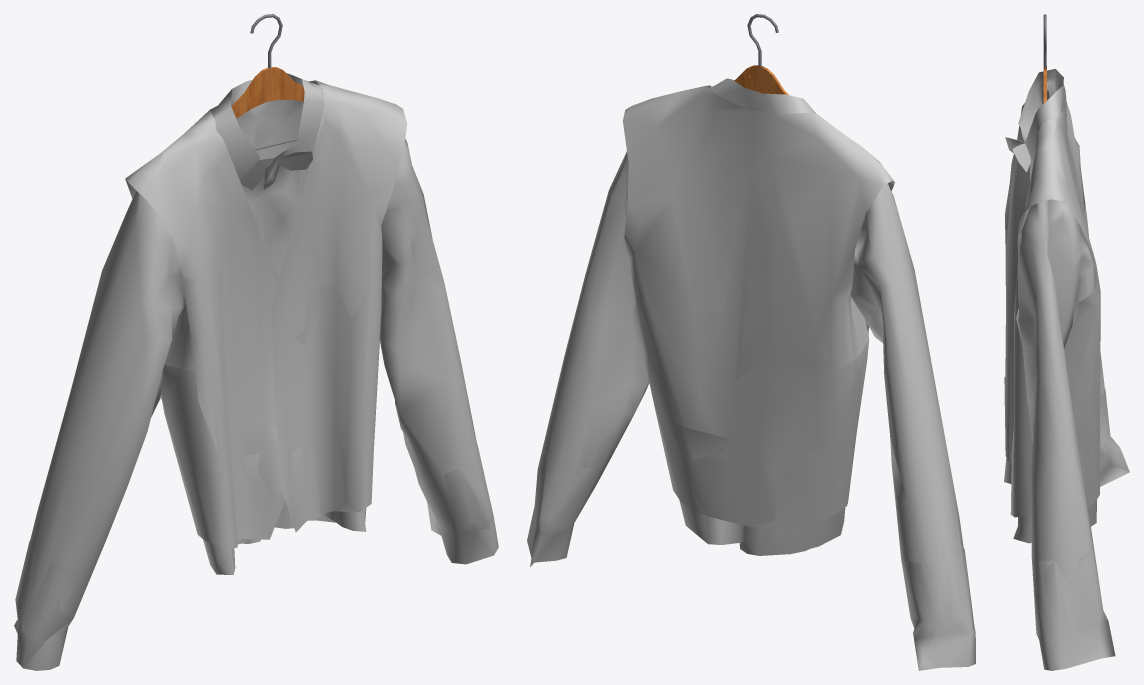
File: TuxedoVest.FBX
The picture shows the model from 3 angles, left to right: view 1: azimuth 30°, elevation 25°; view 2: azimuth 150°, elevation 25°; view 3: azimuth 270°, elevation 25°; orthographic projection. The views are drawn at different scales.
Parts seen in each view (by area): view 1: tuxedo_vest_LOD0, _Hanger-1_LOD0; view 2: tuxedo_vest_LOD0, _Hanger-1_LOD0; view 3: tuxedo_vest_LOD0, _Hanger-1_LOD0.
Part boxes in pixels (<box>): tuxedo_vest_LOD0: <box>14,73,498,670</box>; _Hanger-1_LOD0: <box>231,14,323,150</box>; tuxedo_vest_LOD0: <box>527,78,975,670</box>; _Hanger-1_LOD0: <box>734,14,788,94</box>; tuxedo_vest_LOD0: <box>1004,68,1129,670</box>; _Hanger-1_LOD0: <box>1043,14,1046,103</box>.
Size of what is drawn, in the model's own units: 68.47 by 17.27 by 85.63.
